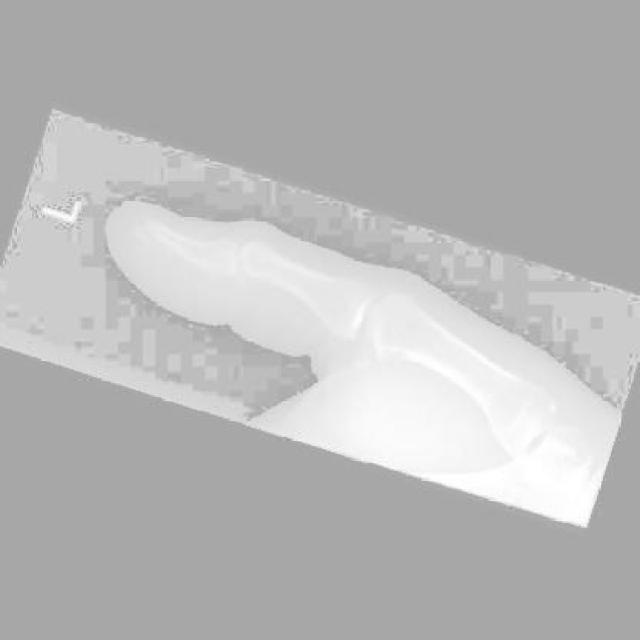Fracture: (131, 220, 180, 260), (220, 270, 246, 293)
